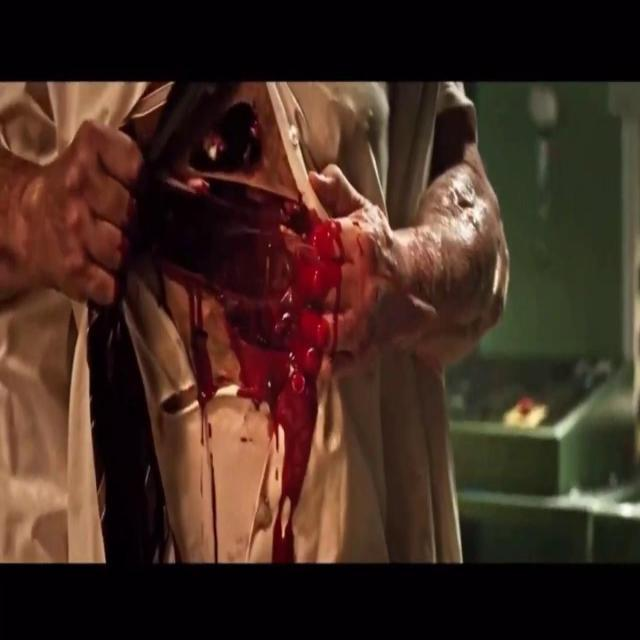flood: (169, 187, 329, 563)
